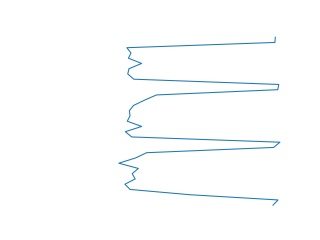majorRiverChannelBar: (116, 35, 284, 206)
